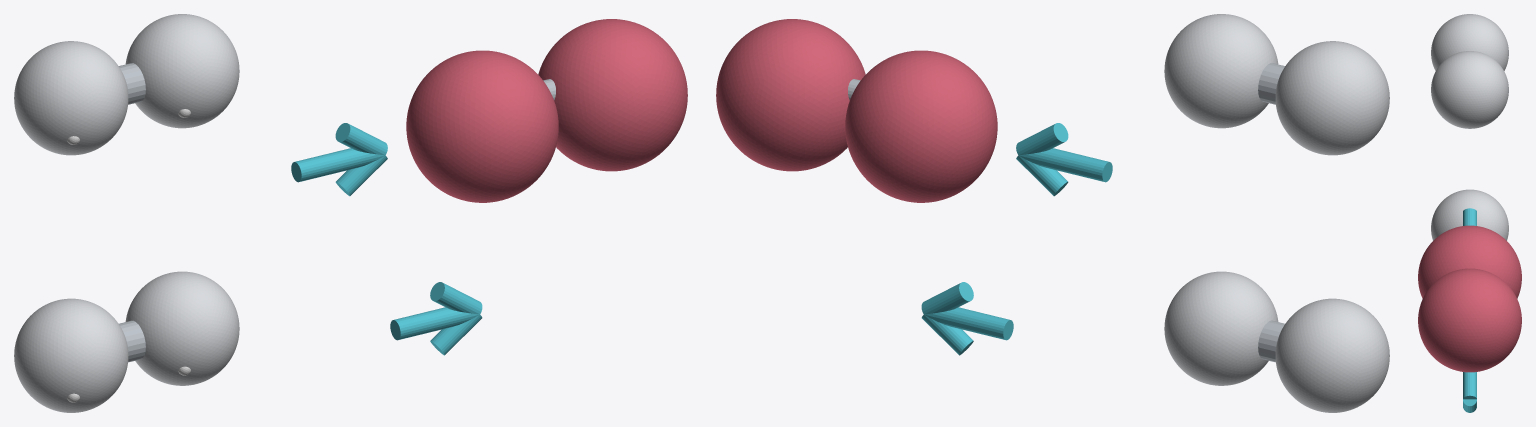
The model's file is 04_COLISAO_NAO_EFETIVA.glb.
3 views of the same model, side by side, from view 1: azimuth 30°, elevation 25°; view 2: azimuth 150°, elevation 25°; view 3: azimuth 270°, elevation 25° (orthographic). The views are drawn at different scales.
Visible parts, largest first — view 1: world; view 2: world; view 3: world.
Part boxes in pixels (<box>): world: <box>14,14,687,412</box>; world: <box>716,14,1389,412</box>; world: <box>1418,14,1521,412</box>.
Size of the model in its own units: 4.37 by 2.54 by 0.88.
